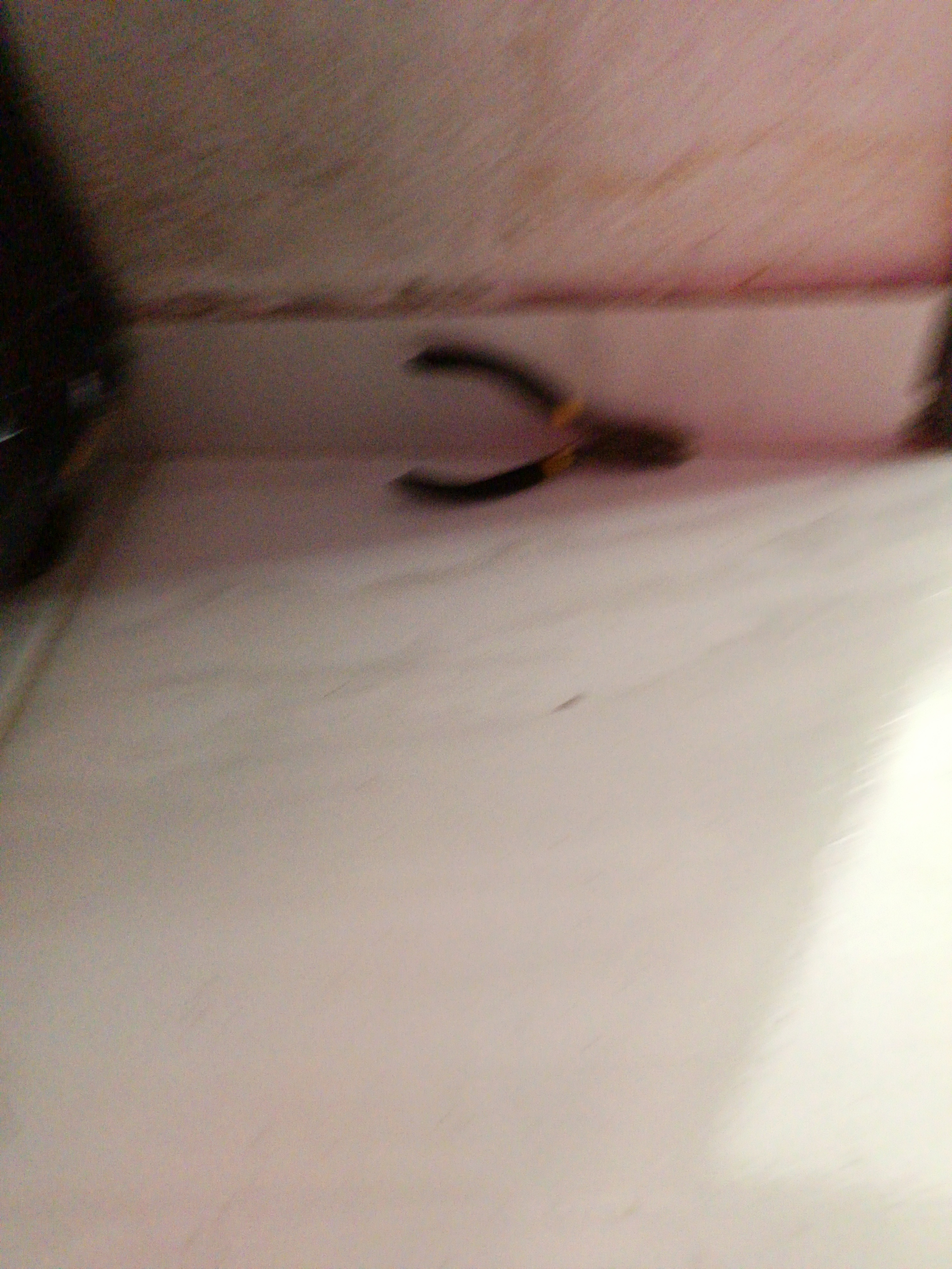Pinzas: (393, 343, 694, 504)
